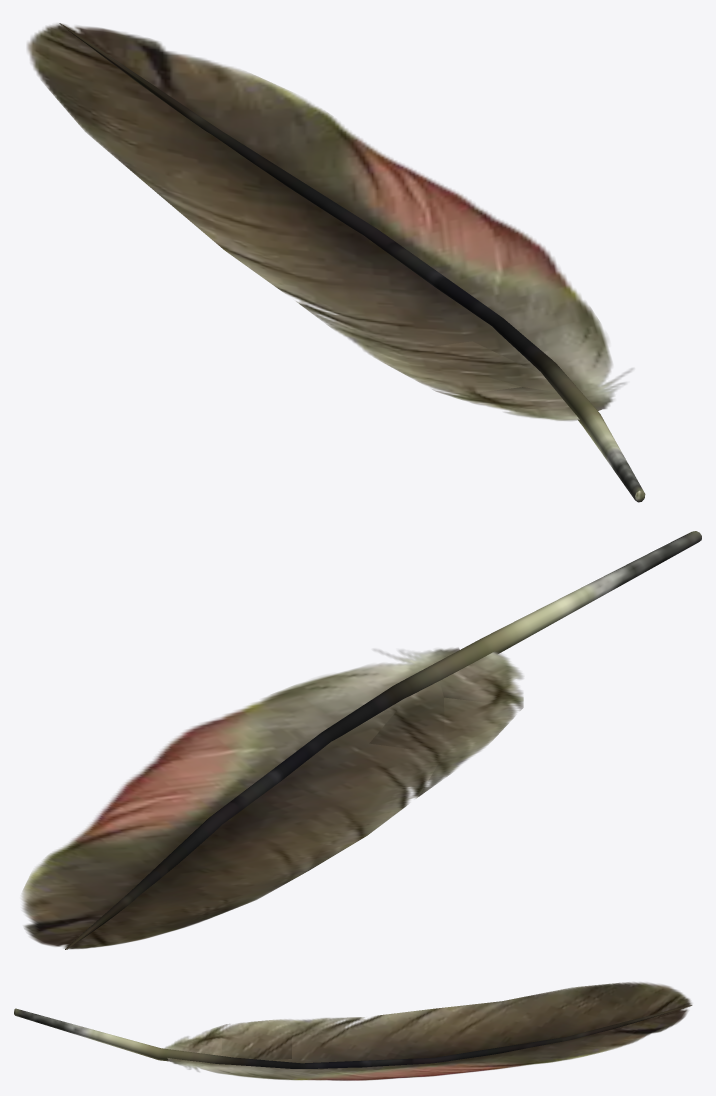
File: obj_quill.glb
3 views of the same model, one above another, from view 1: azimuth 30°, elevation 25°; view 2: azimuth 150°, elevation 25°; view 3: azimuth 270°, elevation 25° (orthographic). The views are drawn at different scales.
Parts seen in each view (by area): view 1: Quill_LP_01 - Default_0; view 2: Quill_LP_01 - Default_0; view 3: Quill_LP_01 - Default_0.
Boxes of the visible parts, x1,y1,x2,y2 form: Quill_LP_01 - Default_0: (27,23,645,502); Quill_LP_01 - Default_0: (21,531,701,949); Quill_LP_01 - Default_0: (14,982,692,1080).
Size of the model in its own units: 0.0829 by 0.0235 by 0.3.
1 material, 1 textured.
